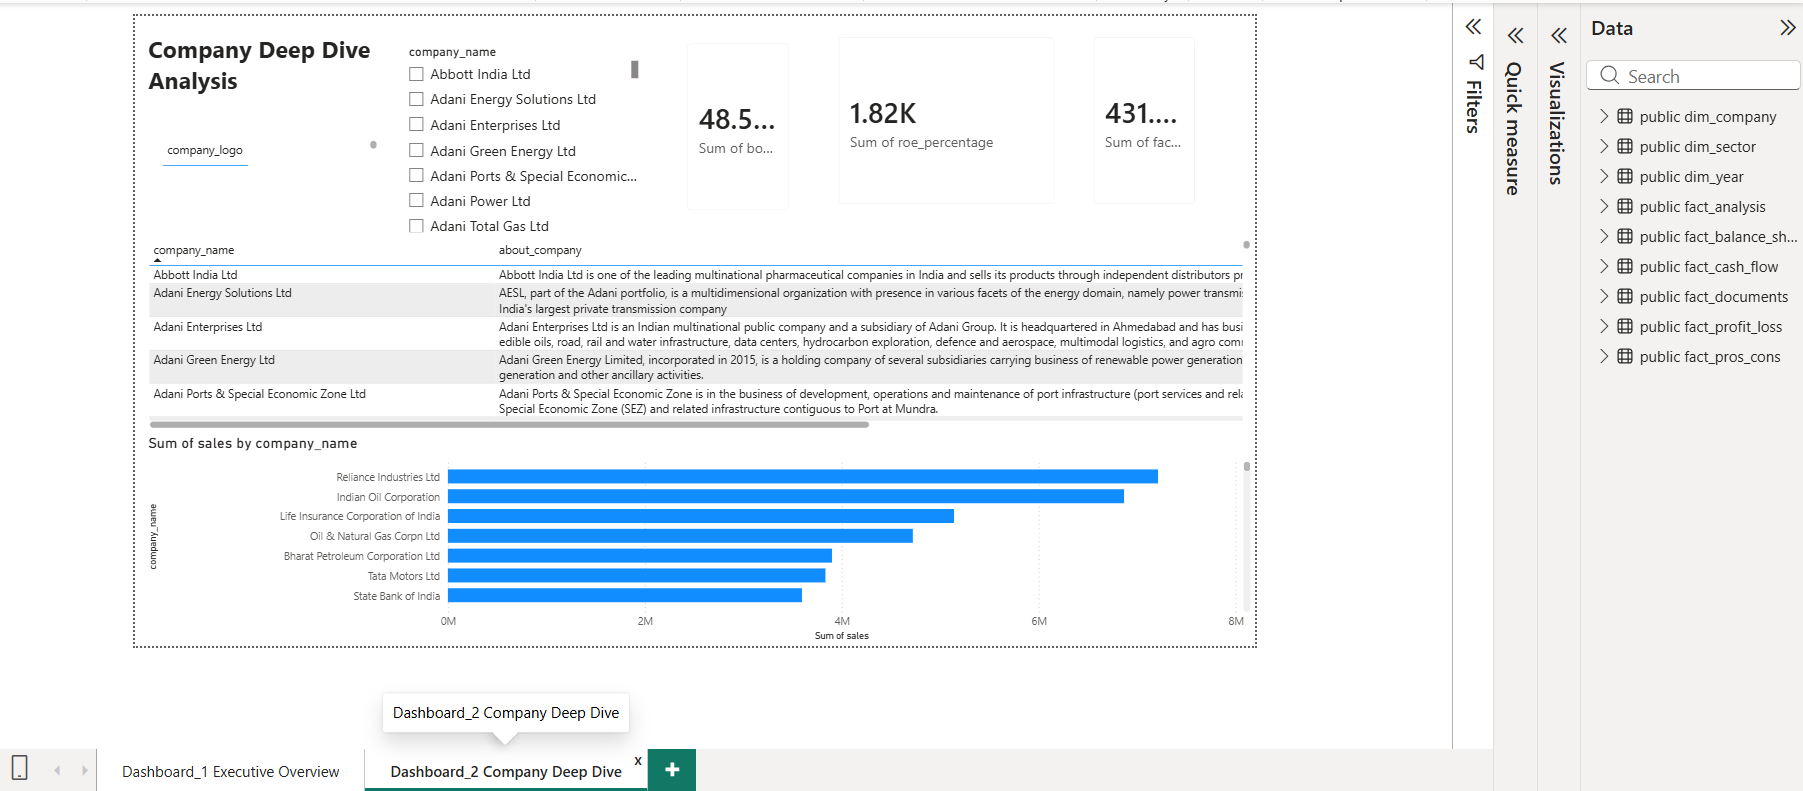

This screenshot's page, from the dashboard's own definition file:
{"tool":"powerbi","page":{"name":"Dashboard_2 Company Deep Dive","canvas":[1280,720],"ordinal":1},"visuals":[{"type":"slicer","fields":{"Values":["public dim_company.company_name"]},"box":[300,27,280,225],"z":0},{"type":"tableEx","fields":{"Values":["public dim_company.company_name","public dim_company.about_company","public dim_company.website"]},"box":[10,252,1270,225],"z":1000},{"type":"cardVisual","fields":{"Data":["Sum(public dim_company.roe_percentage)"]},"box":[787,7,280,225],"z":2001},{"type":"cardVisual","fields":{"Data":["Sum(public dim_company.face_value)"]},"box":[1079,7,150,225],"z":2002},{"type":"cardVisual","fields":{"Data":["Sum(public dim_company.book_value)"]},"box":[614,14,150,225],"z":2003},{"type":"clusteredBarChart","fields":{"Category":["public dim_company.company_name"],"Y":["Sum(public fact_profit_loss.sales)"]},"box":[10,477,1270,243],"z":2004},{"type":"tableEx","fields":{"Values":["public dim_company.company_logo"]},"box":[26,137,256,115],"z":2005},{"type":"textbox","box":[10,14,272,95],"z":2006}]}

Visuals, with their boxes on the page's 1280x720 design canvas (x1, y1, x2, y2). These are canvas units, not pixel positions in the 1803x791 screenshot, which may show the page scaled, cropped or inside an application window:
slicer - public dim_company.company_name: <region>300, 27, 580, 252</region>
tableEx - public dim_company.company_name x public dim_company.about_company: <region>10, 252, 1280, 477</region>
cardVisual - Sum(public dim_company.roe_percentage): <region>787, 7, 1067, 232</region>
cardVisual - Sum(public dim_company.face_value): <region>1079, 7, 1229, 232</region>
cardVisual - Sum(public dim_company.book_value): <region>614, 14, 764, 239</region>
clusteredBarChart - public dim_company.company_name x Sum(public fact_profit_loss.sales): <region>10, 477, 1280, 720</region>
tableEx - public dim_company.company_logo: <region>26, 137, 282, 252</region>
textbox: <region>10, 14, 282, 109</region>
